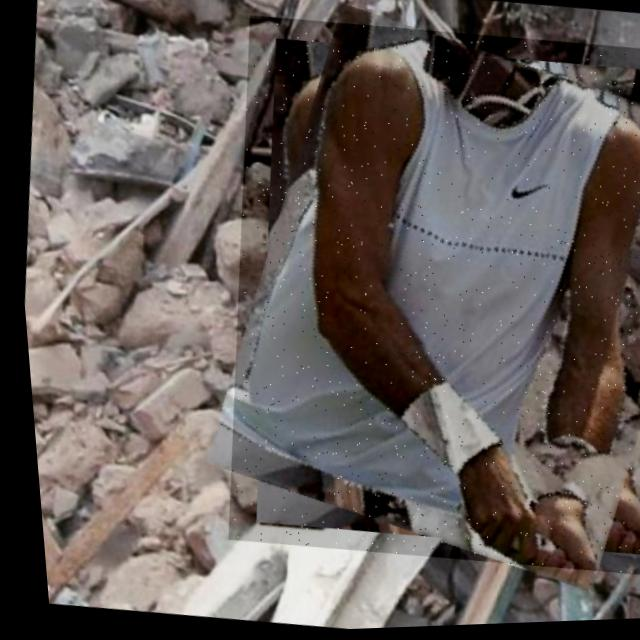Person in Rubble: (185, 5, 640, 593)
